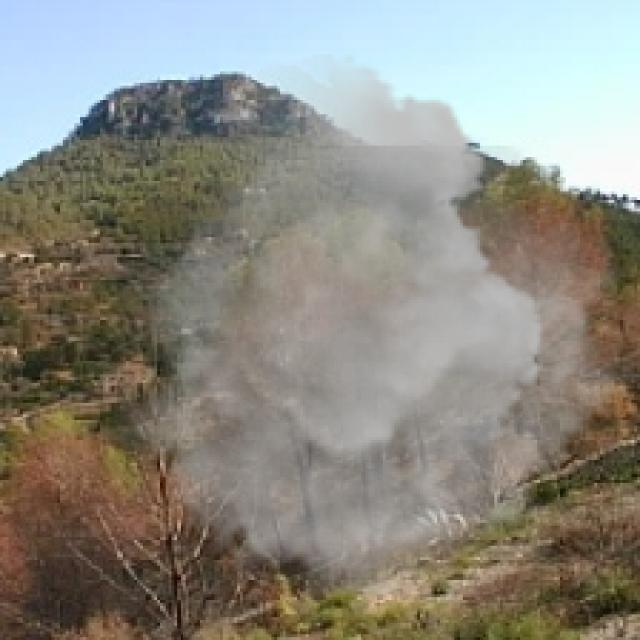smoke: (112, 54, 637, 597)
